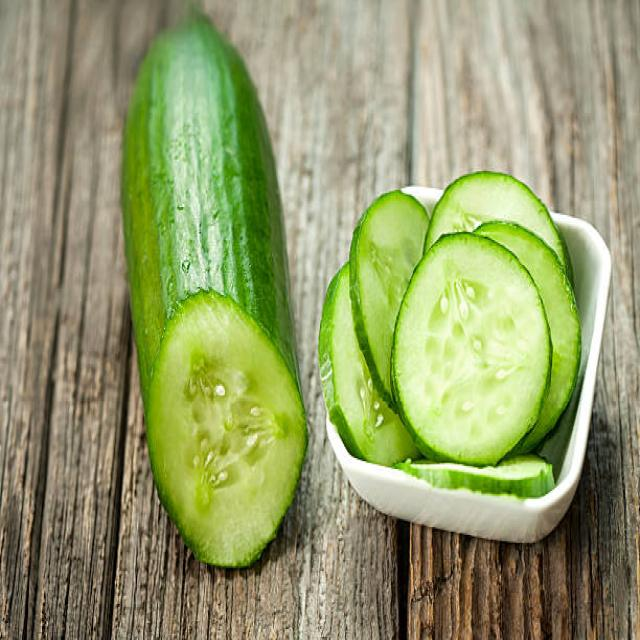cucumber: (120, 15, 308, 573)
